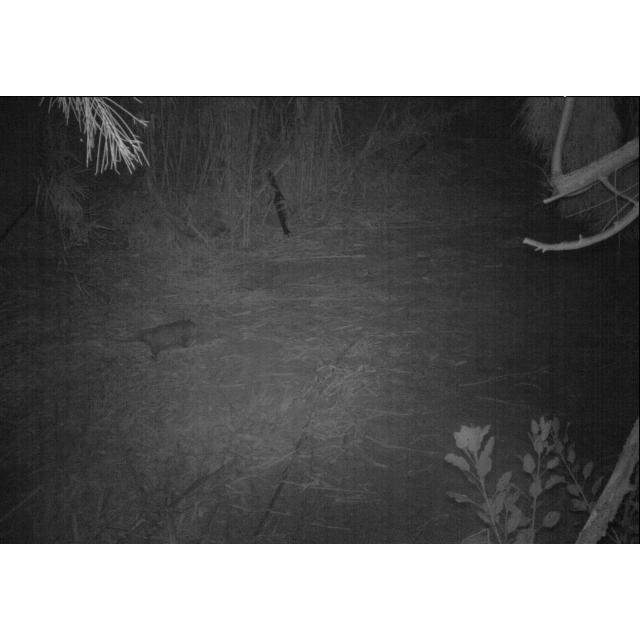animals: (114, 316, 202, 362)
